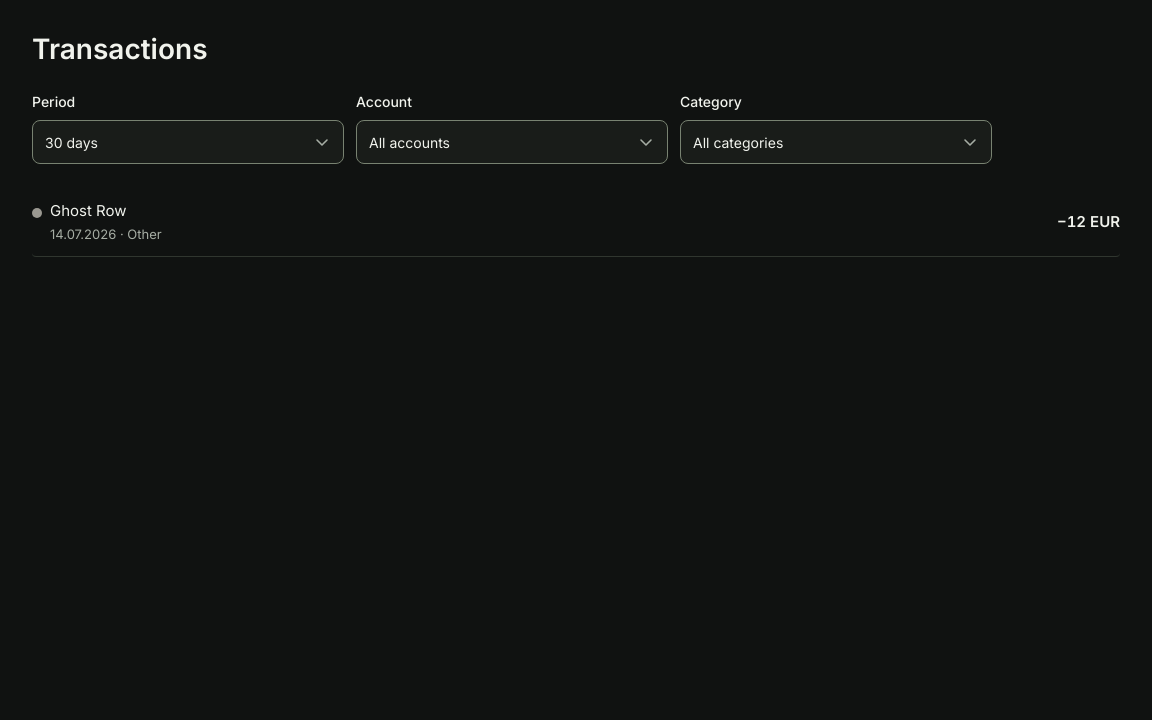
Test: the account a row belongs to › prints no raw id for an account the screen does not have
The width and height of the screenshot is (1152, 720).
Click the text "Ghost Row".
click(88, 210)  # box [50,201,126,220]
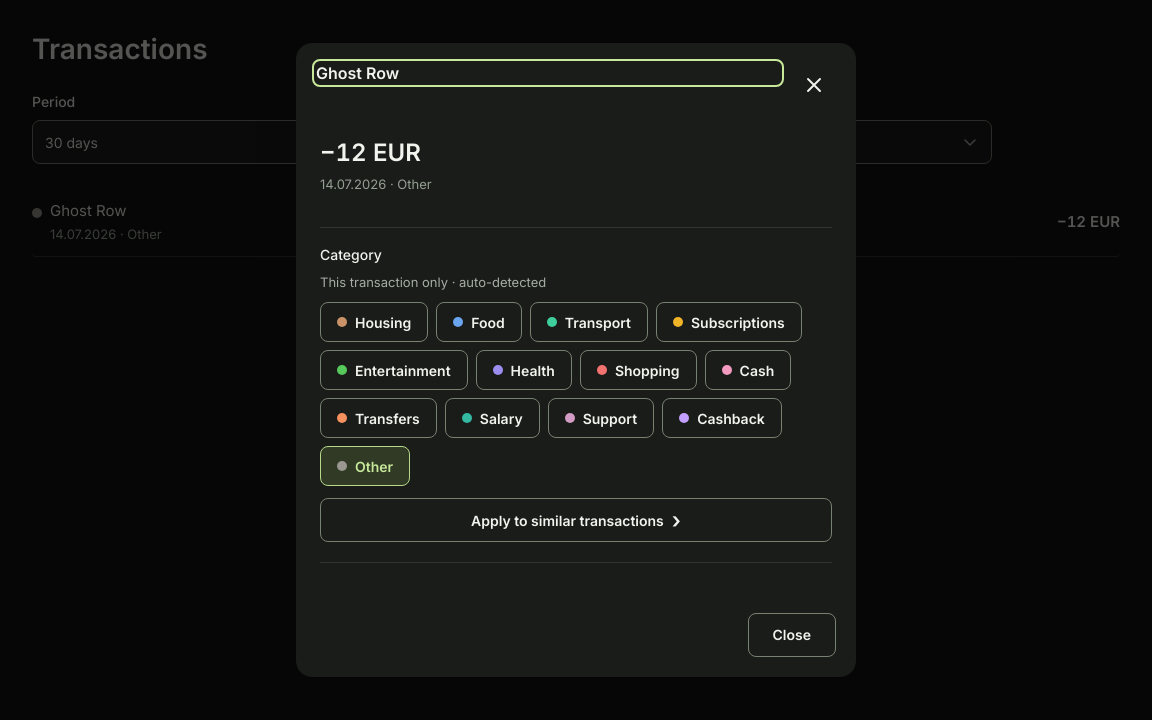
Result: the dialog is shown at [296,43,856,677]
